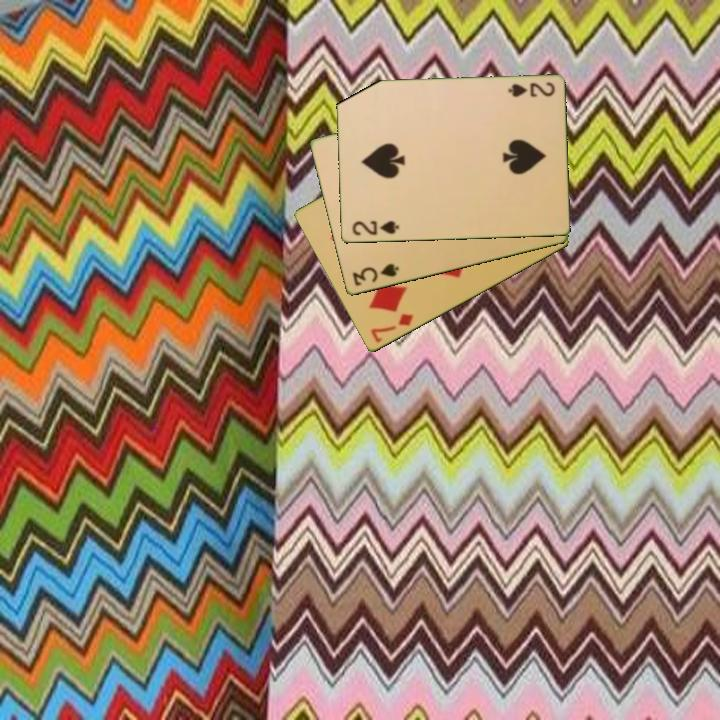2s: (349, 218, 401, 239), (505, 79, 557, 100)
3s: (349, 260, 402, 289)
7d: (367, 310, 416, 346)
